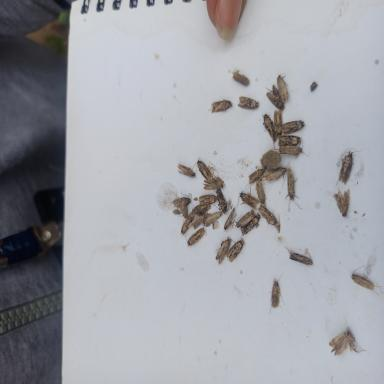pbw: (349, 265, 384, 296), (285, 166, 303, 212), (263, 160, 291, 189), (258, 204, 278, 238), (268, 270, 283, 315), (234, 186, 260, 210), (191, 156, 215, 182), (264, 84, 286, 112), (214, 236, 236, 264), (272, 143, 310, 159), (284, 246, 314, 266), (332, 187, 350, 218), (241, 212, 260, 237), (226, 237, 245, 262), (213, 188, 230, 215), (185, 227, 207, 247), (263, 114, 275, 149), (180, 210, 196, 236), (234, 209, 255, 228), (245, 168, 265, 187), (202, 210, 223, 228), (281, 120, 306, 135), (208, 99, 233, 113), (277, 74, 289, 103), (188, 212, 206, 230), (223, 208, 237, 231), (172, 191, 192, 207), (177, 162, 197, 178), (273, 110, 283, 140), (278, 134, 303, 146), (238, 96, 259, 110), (177, 195, 188, 219), (232, 72, 249, 86), (256, 181, 266, 204), (198, 194, 218, 205), (192, 203, 212, 214), (202, 180, 224, 190)
